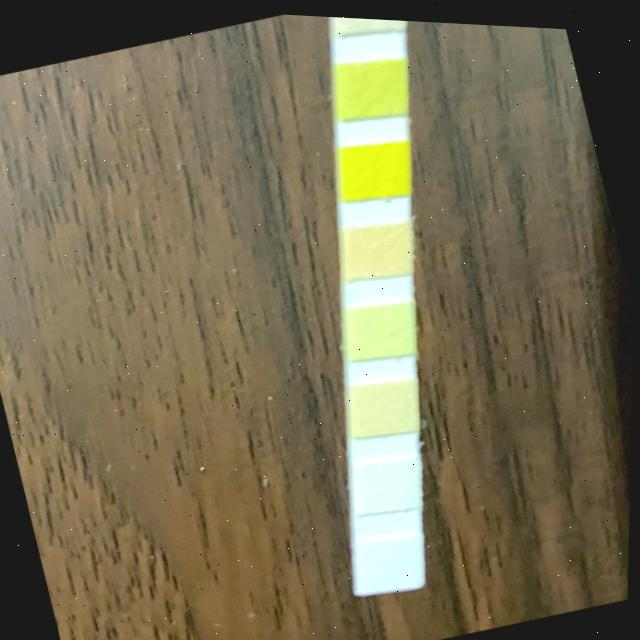Blood: (344, 138, 408, 196)
Ketone: (340, 14, 400, 26)
Leukocytes: (362, 531, 424, 587)
Nitrite: (358, 452, 420, 507)
Protein: (354, 301, 409, 351)
SpGravity: (338, 56, 405, 114)
Urobilinogen: (354, 378, 413, 431)
pH: (346, 219, 405, 272)
